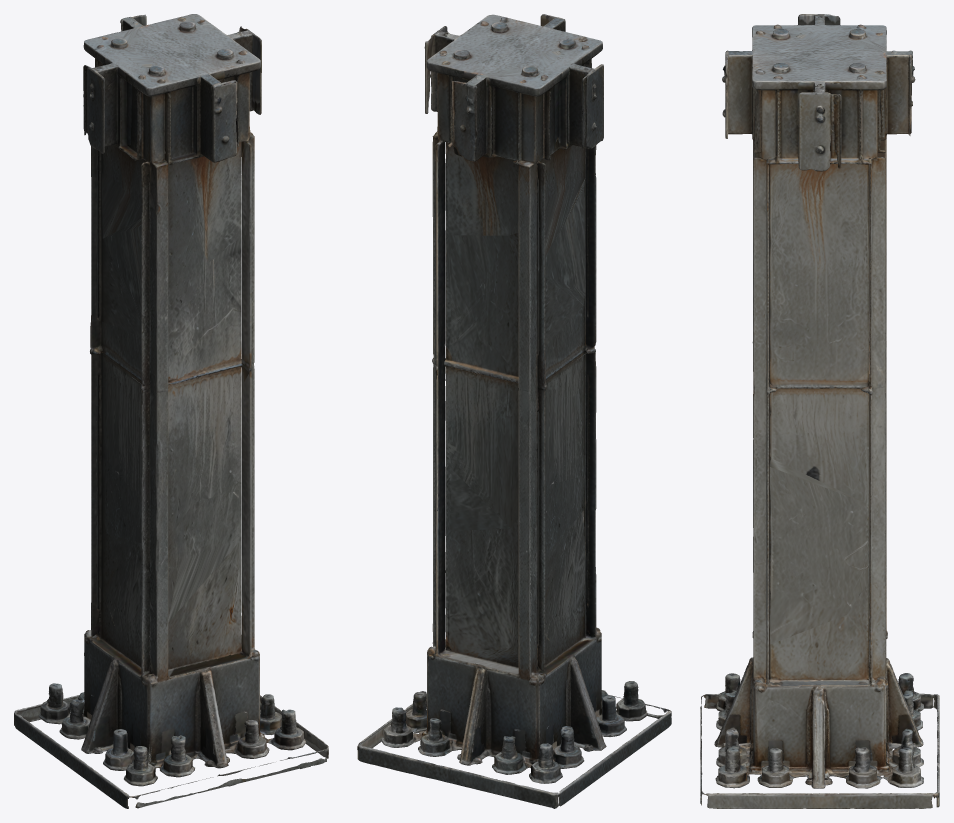
File: Env_SteelColumn.fbx
3 views of the same model, side by side, from view 1: azimuth 30°, elevation 25°; view 2: azimuth 150°, elevation 25°; view 3: azimuth 270°, elevation 25° (orthographic). The views are drawn at different scales.
Visible parts, largest first — view 1: Env_SteelColumn; view 2: Env_SteelColumn; view 3: Env_SteelColumn.
Part boxes in pixels (left/top/right/bottom): Env_SteelColumn: left=14, top=14, right=328, bottom=808; Env_SteelColumn: left=357, top=14, right=671, bottom=808; Env_SteelColumn: left=700, top=14, right=939, bottom=808.
Size of the model in its own units: 30.16 by 98.97 by 30.25.
